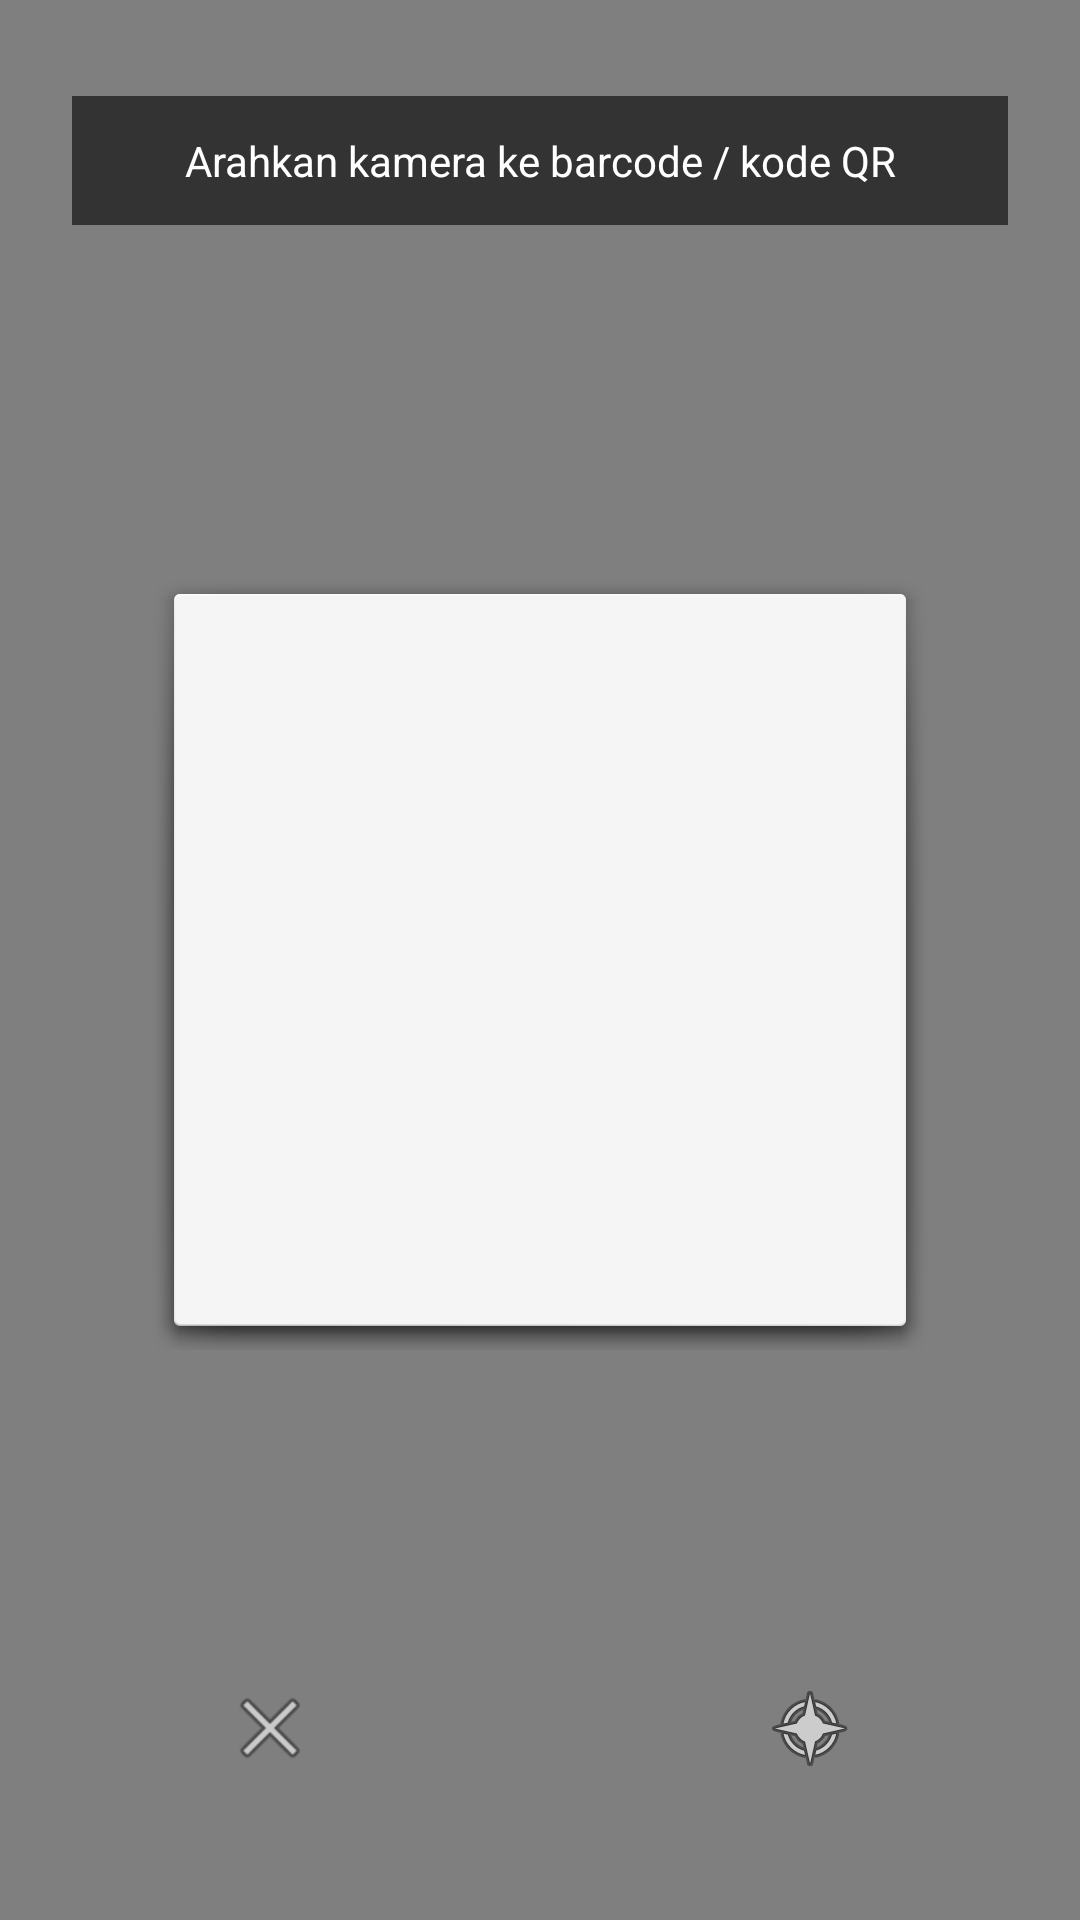

Icons on this 1080*1920 Android screen, each with its box as box(x1, y1, x2, y2):
Cancel: box(240, 1698, 300, 1758)
